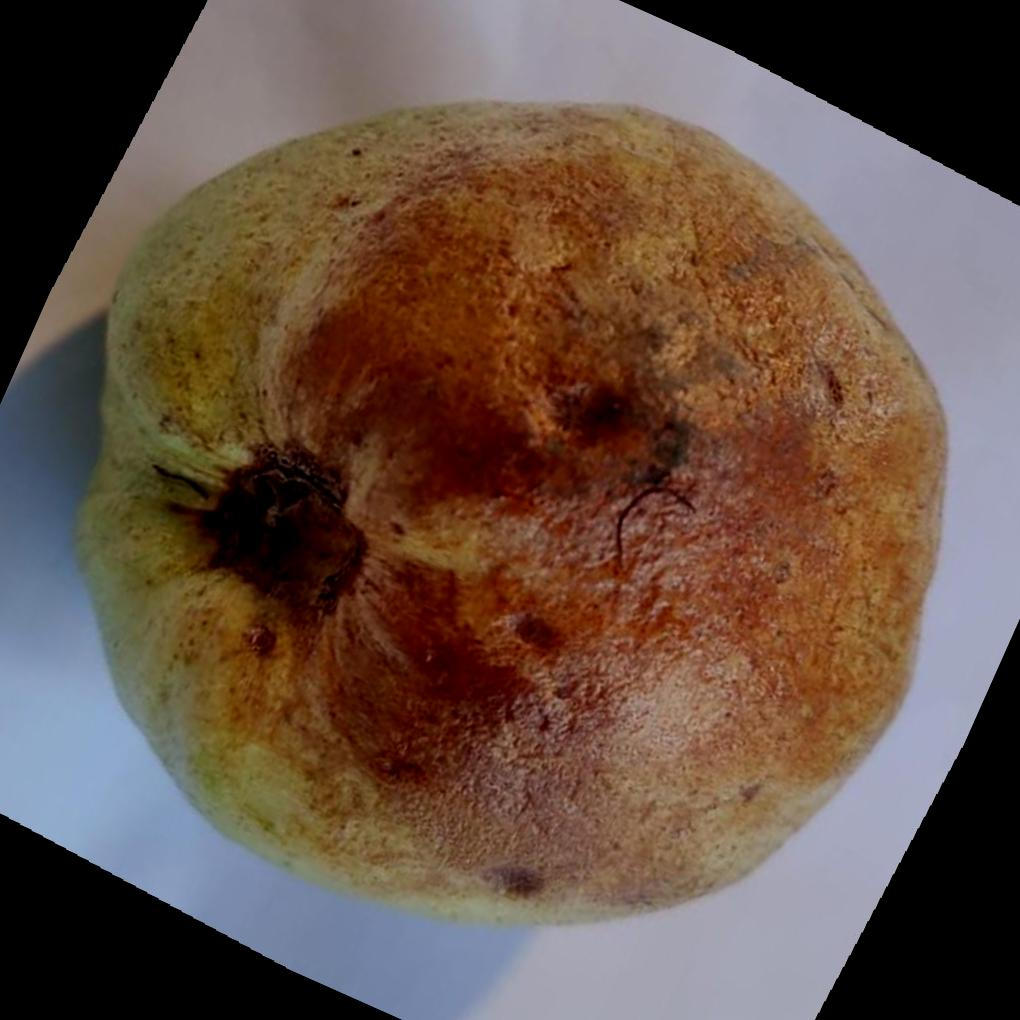FreshOrange: (67, 96, 948, 927)
